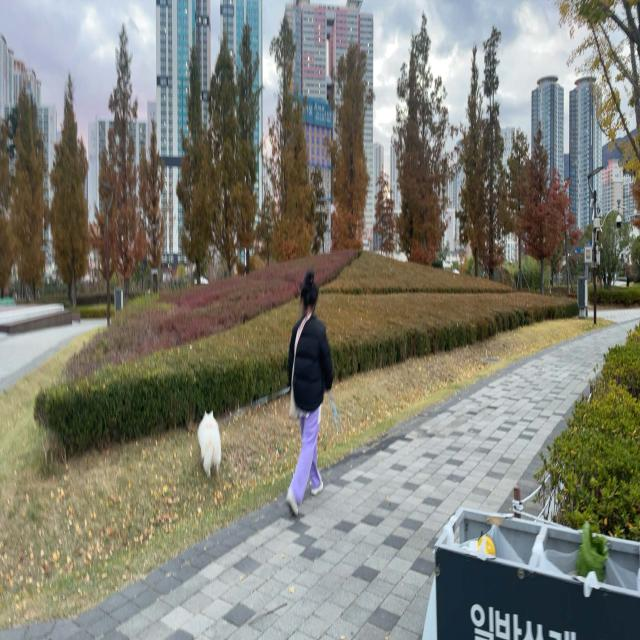Leashed_Dog: (198, 378, 310, 481)
